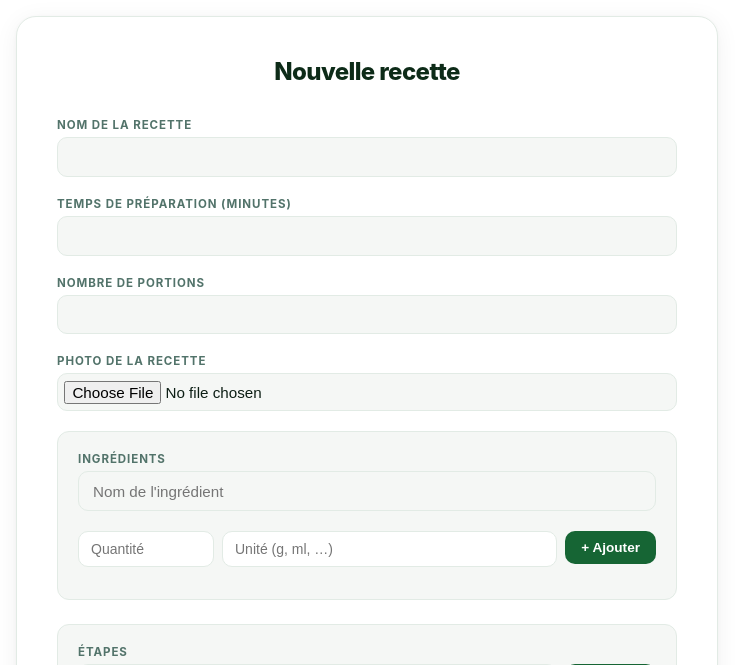
it: RecetteForm — mode création › ajouter un ingrédient valide l'affiche dans la liste
Type "Farine" into the field with placeholder "Nom de l'ingrédient" at (367, 491), box [78,471,656,511]
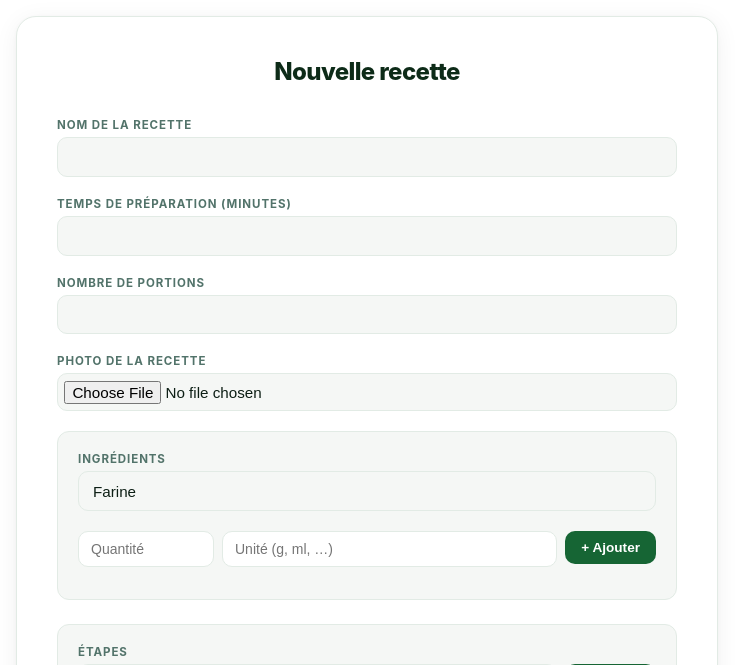
Type "200" into the number field with placeholder "Quantité" at (146, 549), box [78,531,214,567]
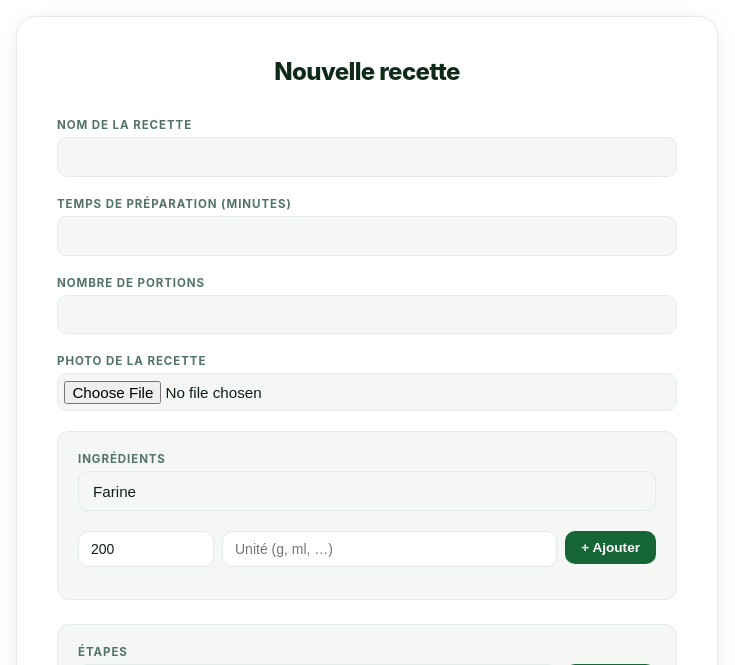
Type "g" into the field with placeholder "Unité (g, ml, …)" at (390, 549), box [222,531,557,567]
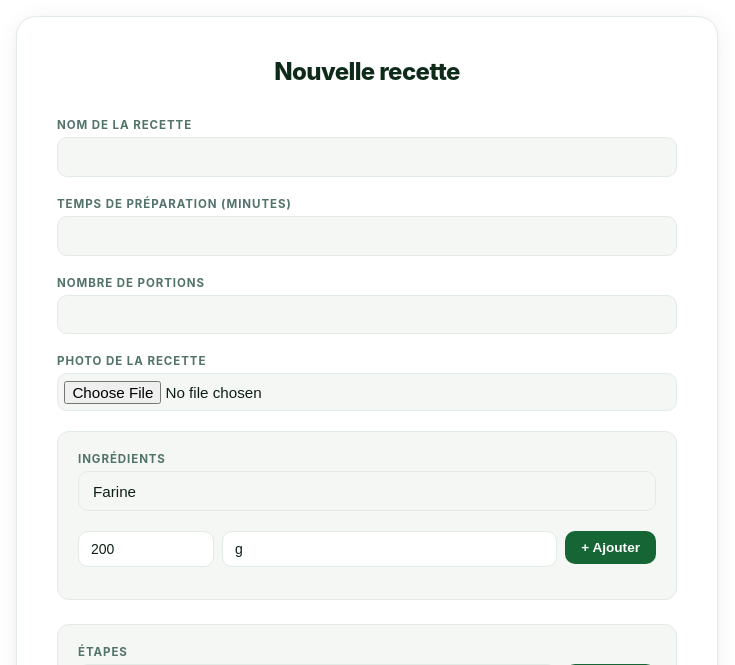
Click the 1st button "+ Ajouter" at (611, 548), box [565,531,656,564]
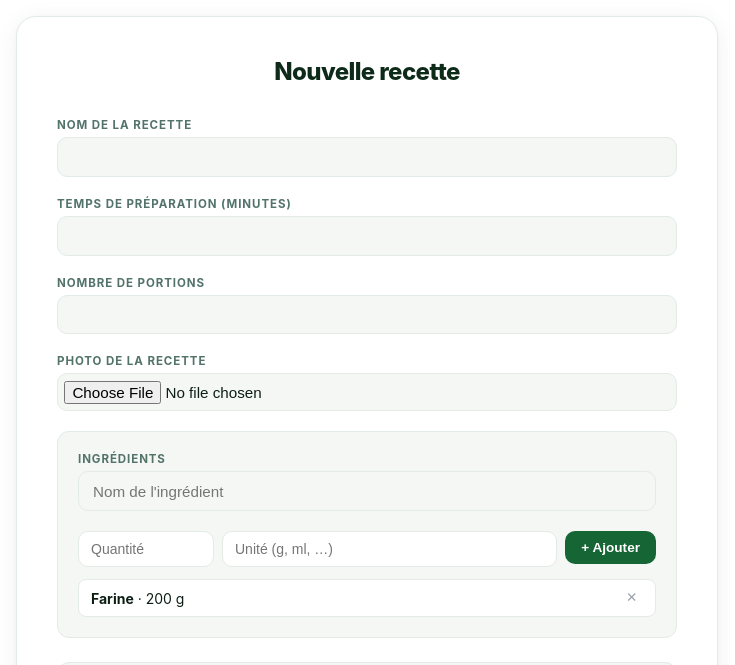
Expected: the text "Farine" is shown, [91,590,134,607]
Expected: the text "Farine · 200 g" is shown, [91,590,184,607]
